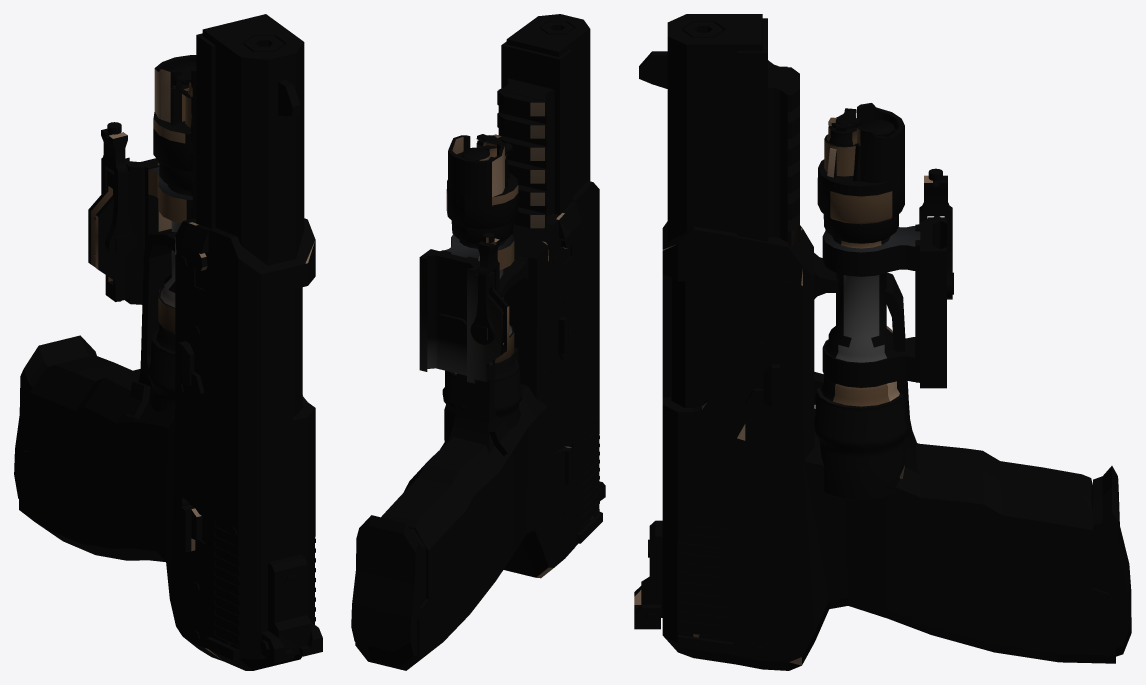
The model's file is FN_FiveSeven__Light_Weapon.fbx.
3 renders of one model, left to right at view 1: azimuth 30°, elevation 25°; view 2: azimuth 150°, elevation 25°; view 3: azimuth 270°, elevation 25°, orthographic. The views are drawn at different scales.
Visible parts, largest first — view 1: asset_FN_FiveSeven.001; view 2: asset_FN_FiveSeven.001; view 3: asset_FN_FiveSeven.001.
Part boxes in pixels (x1=…): asset_FN_FiveSeven.001: x1=14, y1=14, x2=322, y2=670; asset_FN_FiveSeven.001: x1=351, y1=14, x2=605, y2=670; asset_FN_FiveSeven.001: x1=634, y1=14, x2=1131, y2=670.
Bounding box in the file's own units: 0.0229 × 0.1284 × 0.0918.
